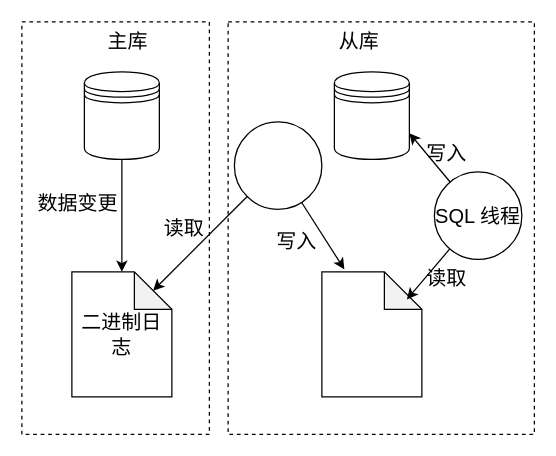
Some shapes in this 556 by 456 pixel diagram are drawn without their labels. Here are the shapes that lost their labels. From the top down, the centre of each, then its label:
At point 277,165: "IO 线程".
At point 371,334: "中继日志".
